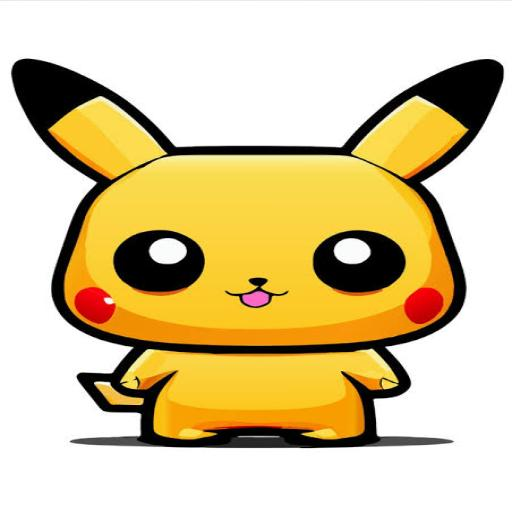Pikachu: (10, 57, 504, 448)
